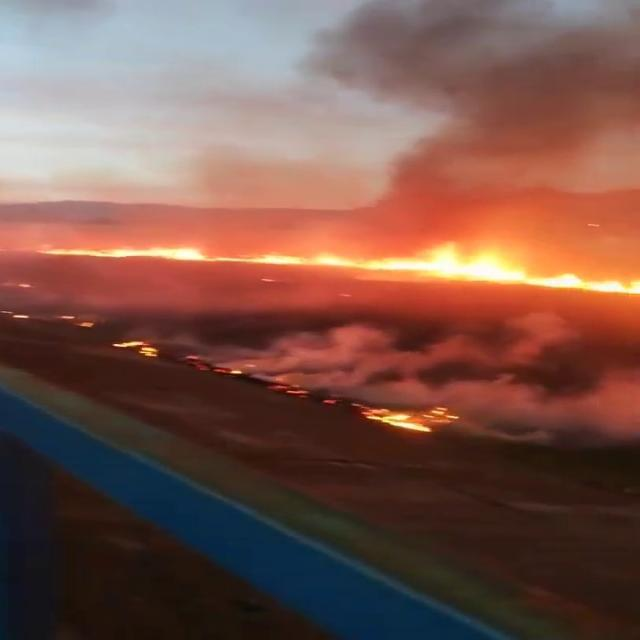Fire: (31, 232, 636, 292), (359, 401, 466, 436)
Smoke: (282, 0, 640, 230), (285, 298, 640, 442)
